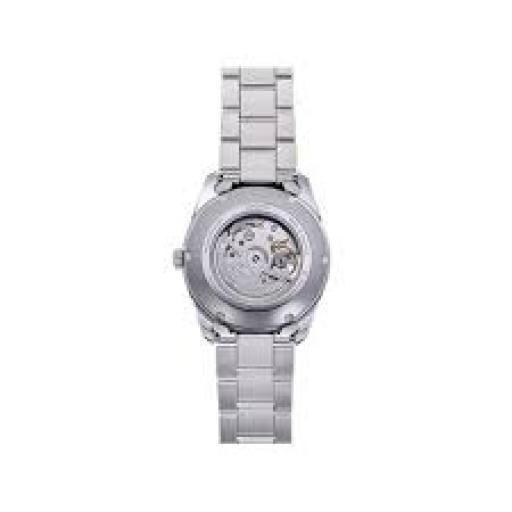KolSaati: (150, 58, 362, 450)
